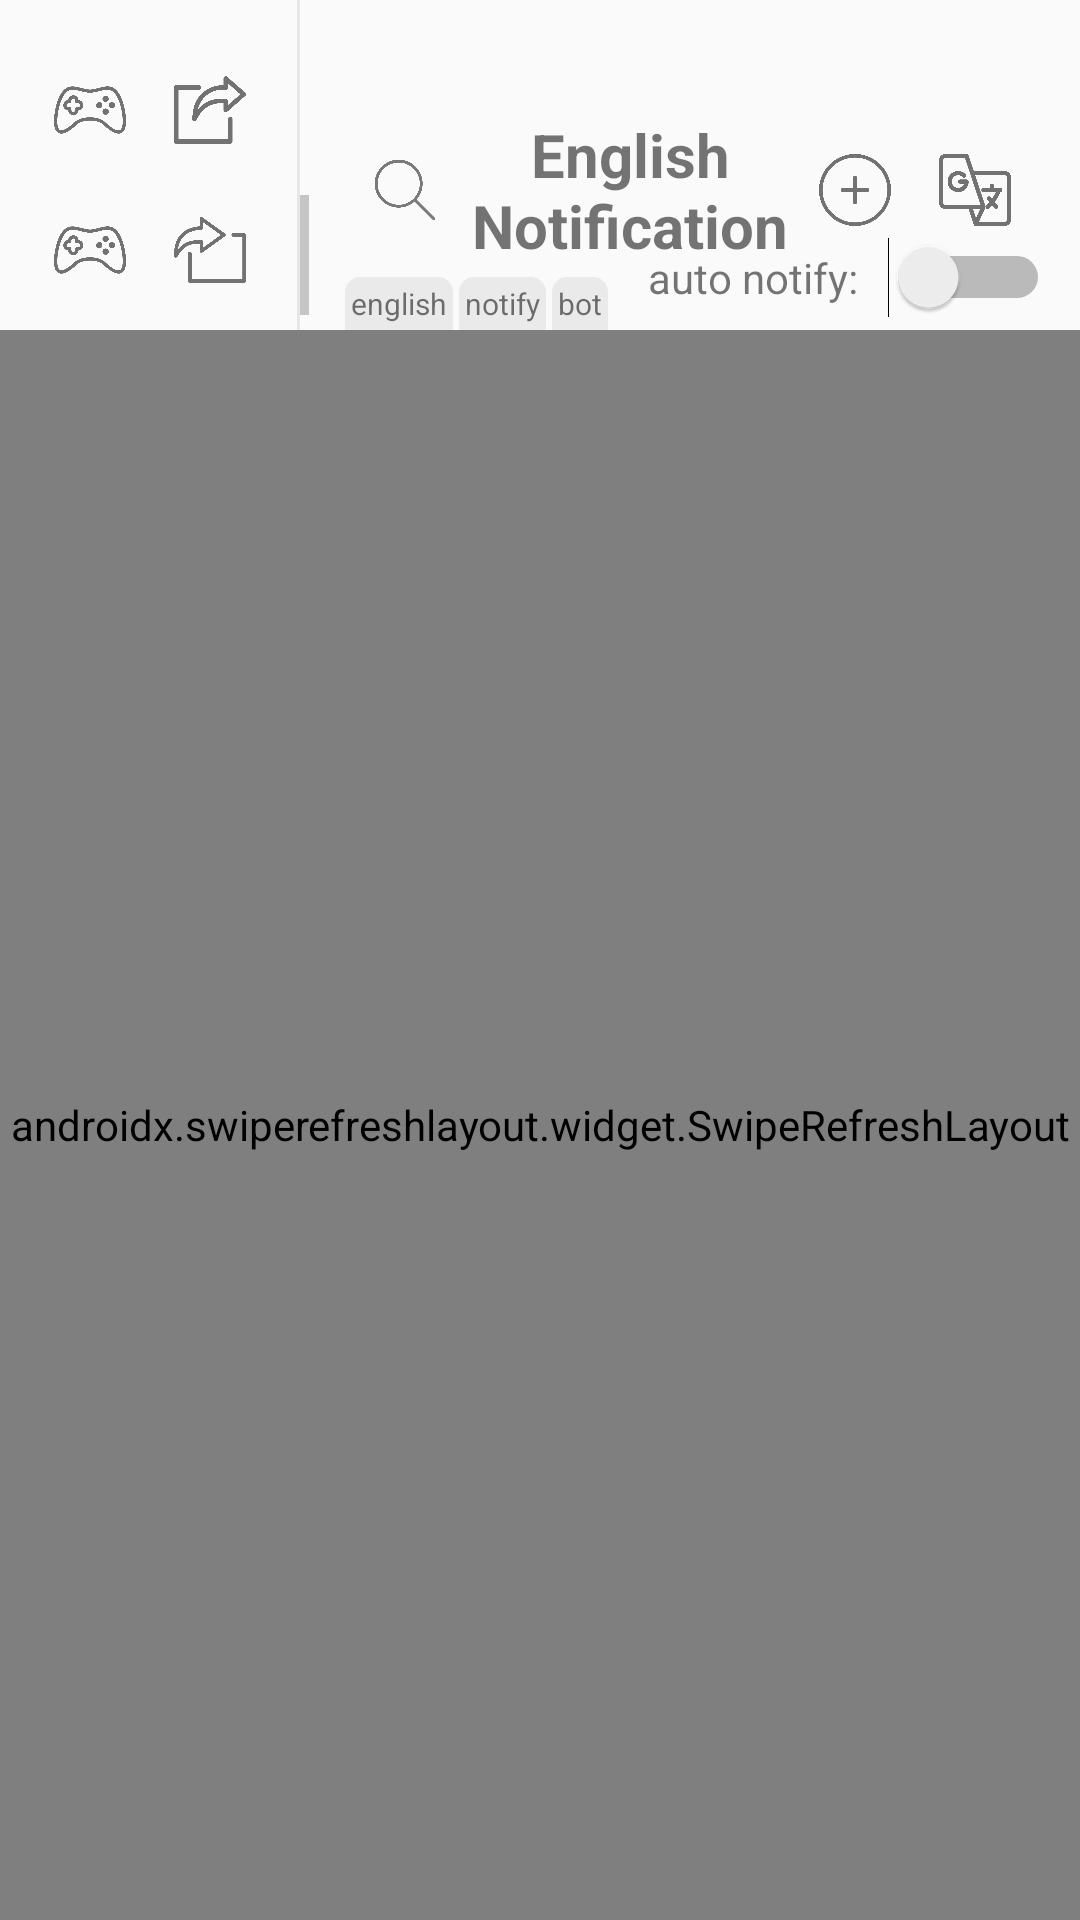

Where to tap for icons on this 1080 × 1920 app screen, as [x,y]:
add: [855,190]
console: [90,110], [90,250]
export: [210,110]
importt: [210,250]
search: [405,190]
